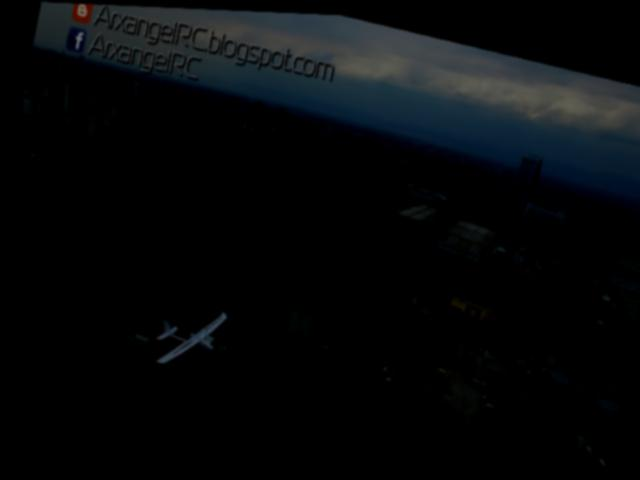plane: (151, 296, 226, 373)
